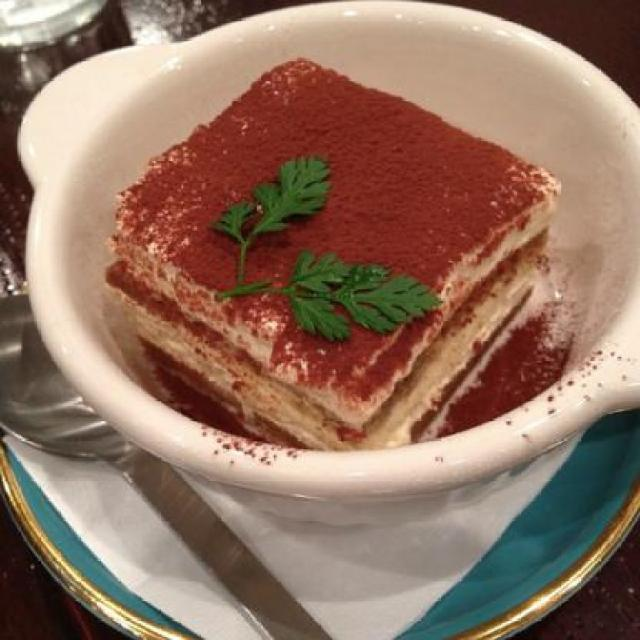Tiramisu: (92, 82, 526, 436)
